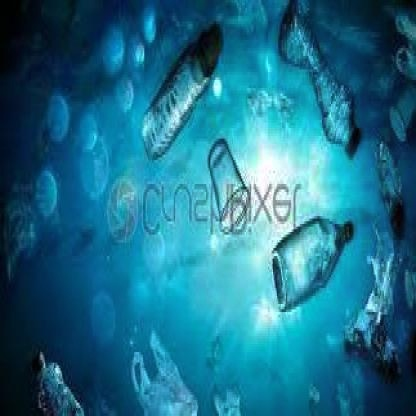pbag: (119, 320, 197, 416), (391, 10, 416, 82), (207, 373, 245, 416)
pbottle: (134, 21, 227, 163), (279, 6, 362, 158), (271, 202, 358, 314), (25, 346, 86, 416)
plastic: (199, 128, 262, 235), (387, 82, 416, 141)
